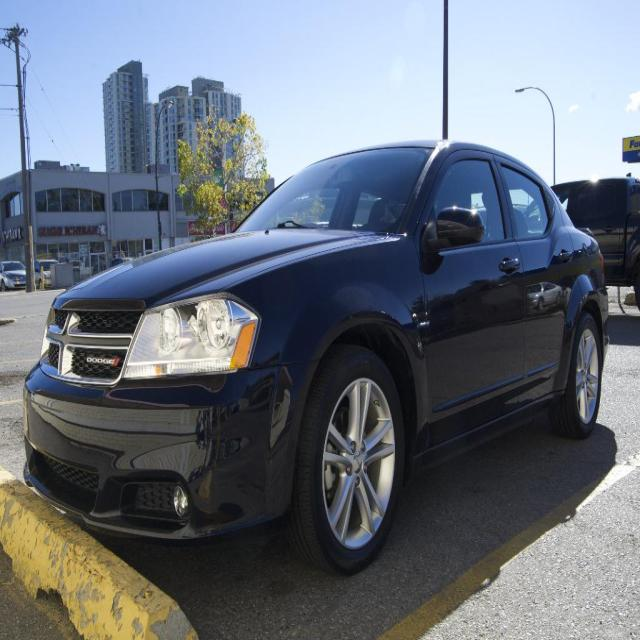car: (13, 129, 613, 586)
